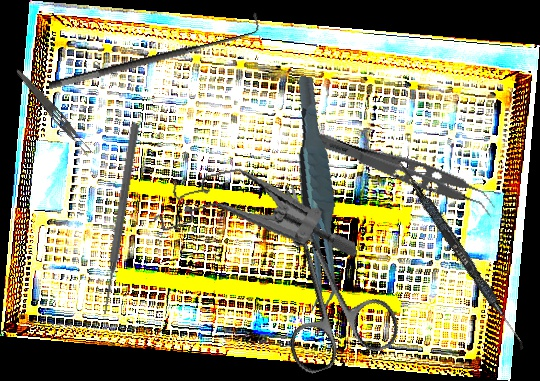Dressing Forceps: (11, 66, 96, 160)
Hook Surgical: (43, 11, 264, 93)
Iris Scissors: (239, 166, 406, 379)
Pusher: (99, 123, 141, 315)
Spatula Surgical: (391, 158, 532, 351)
Speculum: (145, 143, 359, 298)
Tissue Forceps: (265, 75, 366, 314), (301, 127, 502, 219)
